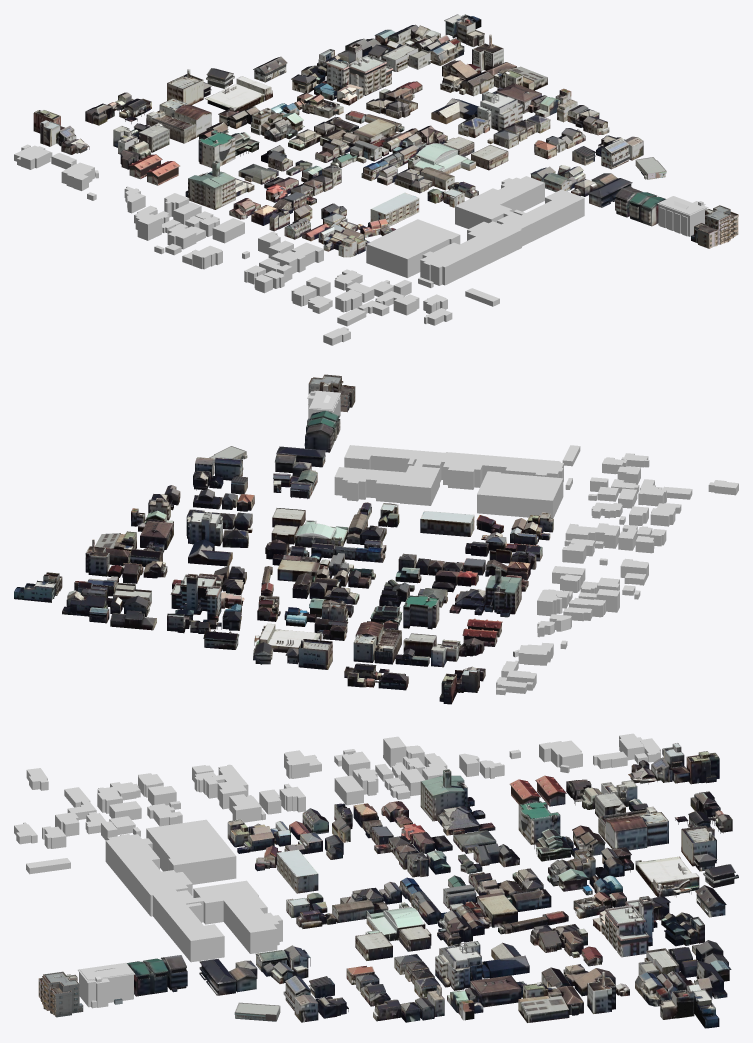
File: lod3-station-3-0-packed.glb
The picture shows the model from 3 angles, top to bottom: view 1: azimuth 30°, elevation 25°; view 2: azimuth 150°, elevation 25°; view 3: azimuth 270°, elevation 25°; orthographic projection. The views are drawn at different scales.
Bounding box in the file's own units: 318 × 23.1 × 346.
Materials: 27 (26 with a texture image).
